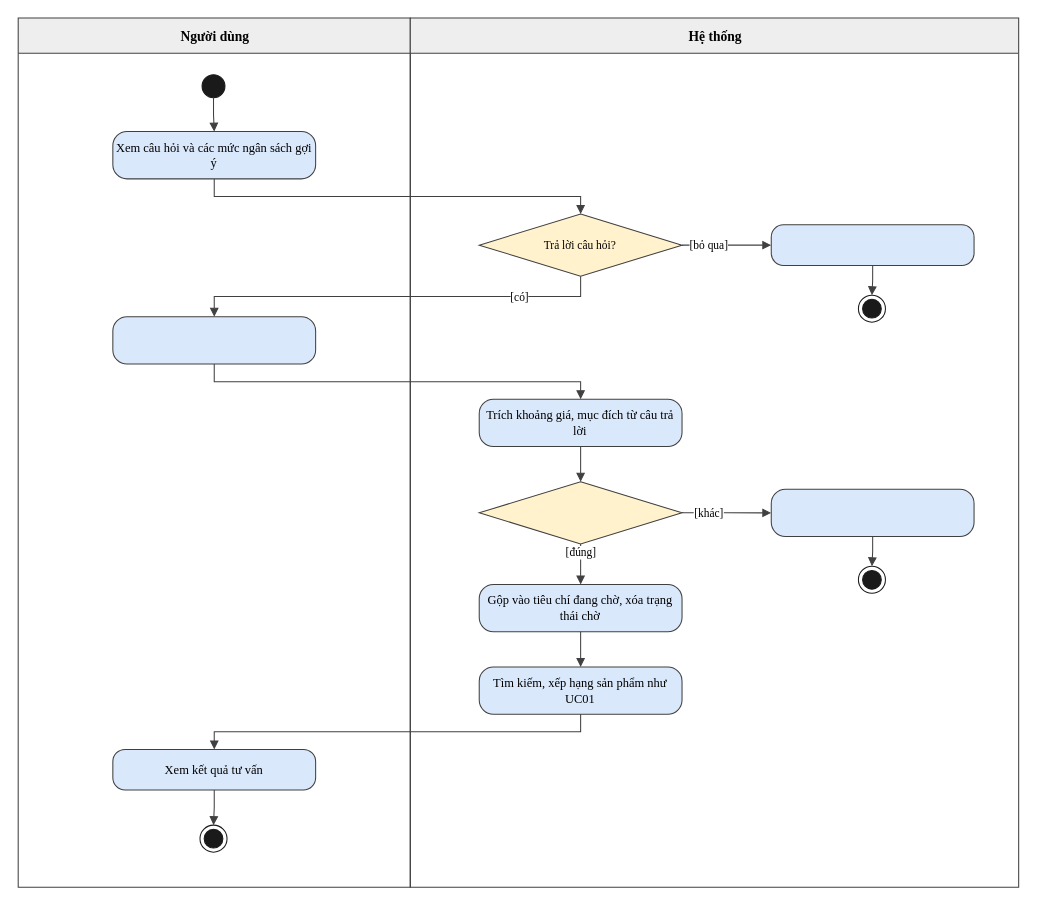
The diagram is 1037 pixels wide and 906 high, and some of its shapes have lost their labels. The shapes that lost their labels are listed below. From the top down, each one's centre as x and y in pixels, then its label:
At [872,244]: "Ẩn thẻ câu hỏi, hỏi nội dung khác".
At [214,340]: "Chọn một mức hoặc tự gõ câu trả lời, bấm Xác nhận".
At [580,512]: "Cùng ngành hàng đang chờ?".
At [872,512]: "Bỏ tiêu chí đang chờ, xử lý như yêu cầu mới (UC01)".
